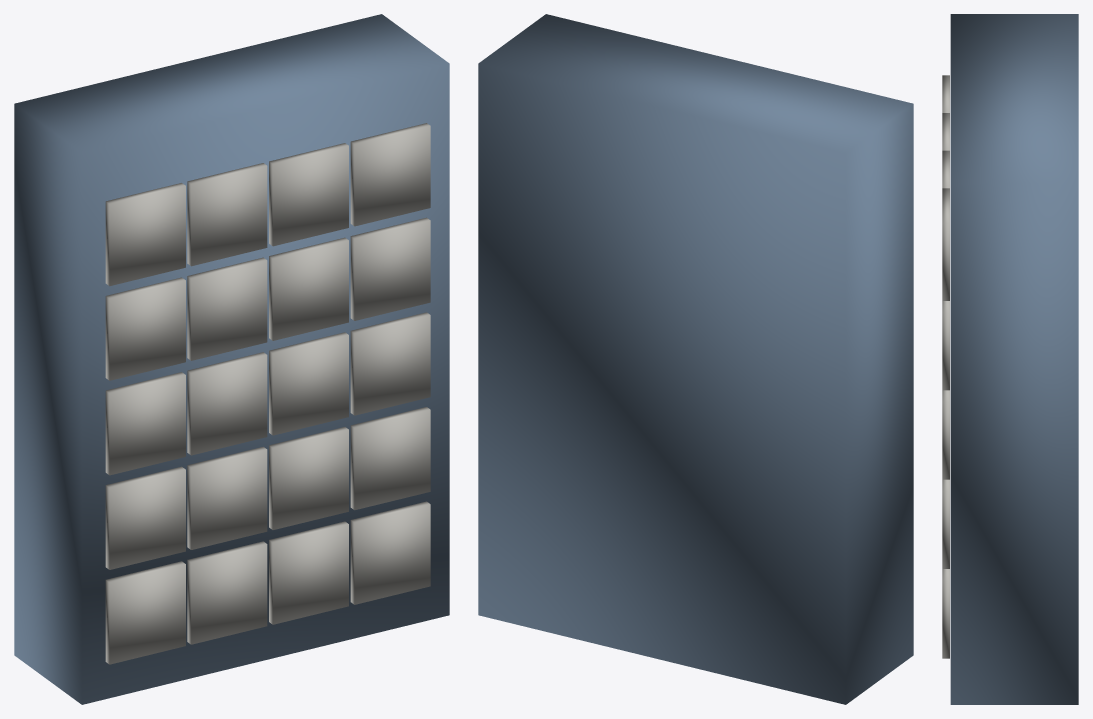
The model's file is parcel_locker__compact.glb.
3 renders of one model, left to right at view 1: azimuth 30°, elevation 25°; view 2: azimuth 150°, elevation 25°; view 3: azimuth 270°, elevation 25°, orthographic. The views are drawn at different scales.
Parts seen in each view (by area): view 1: world; view 2: world; view 3: world.
Part boxes in pixels (x1,y1,x2,y2): world: [14, 14, 449, 704]; world: [478, 14, 913, 704]; world: [942, 14, 1078, 704].
Bounding box in the file's own units: 1.13 × 1.63 × 0.3848.
